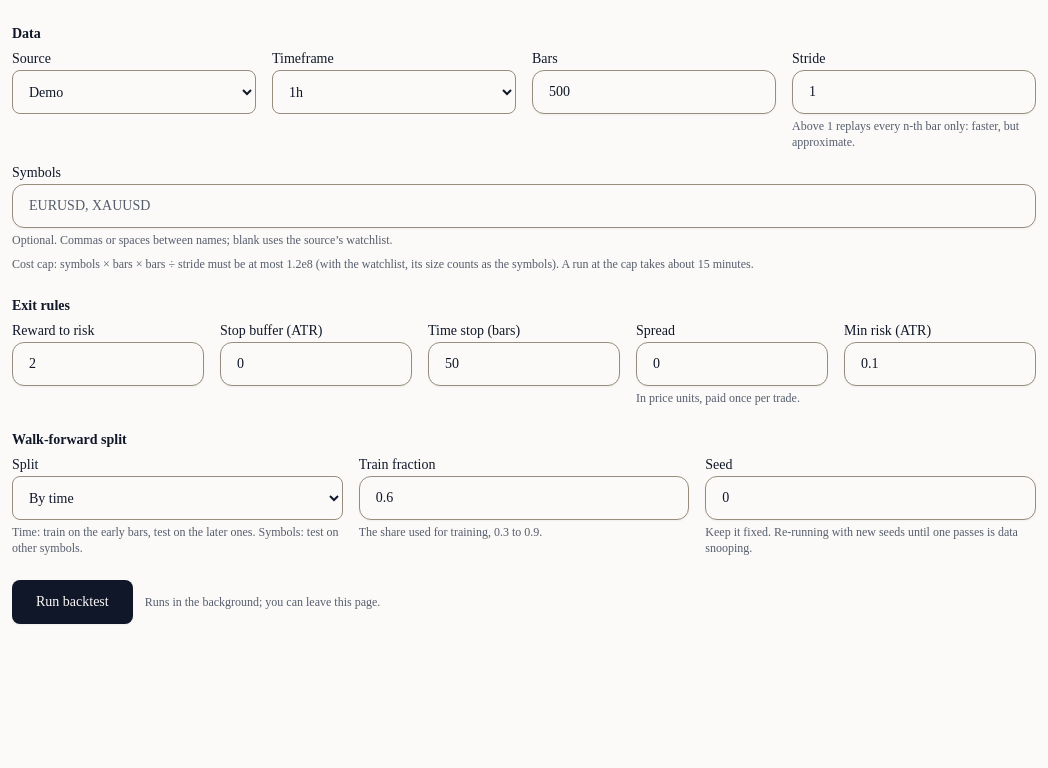
Scenario: BacktestRunForm › posts the strategy, shows a 409 in the alert region and re-reads the page
What coordinates should you click on to do the following:
click the button "Run backtest"
I would click on:
 (72, 602)
Its box is [12,580,133,624].
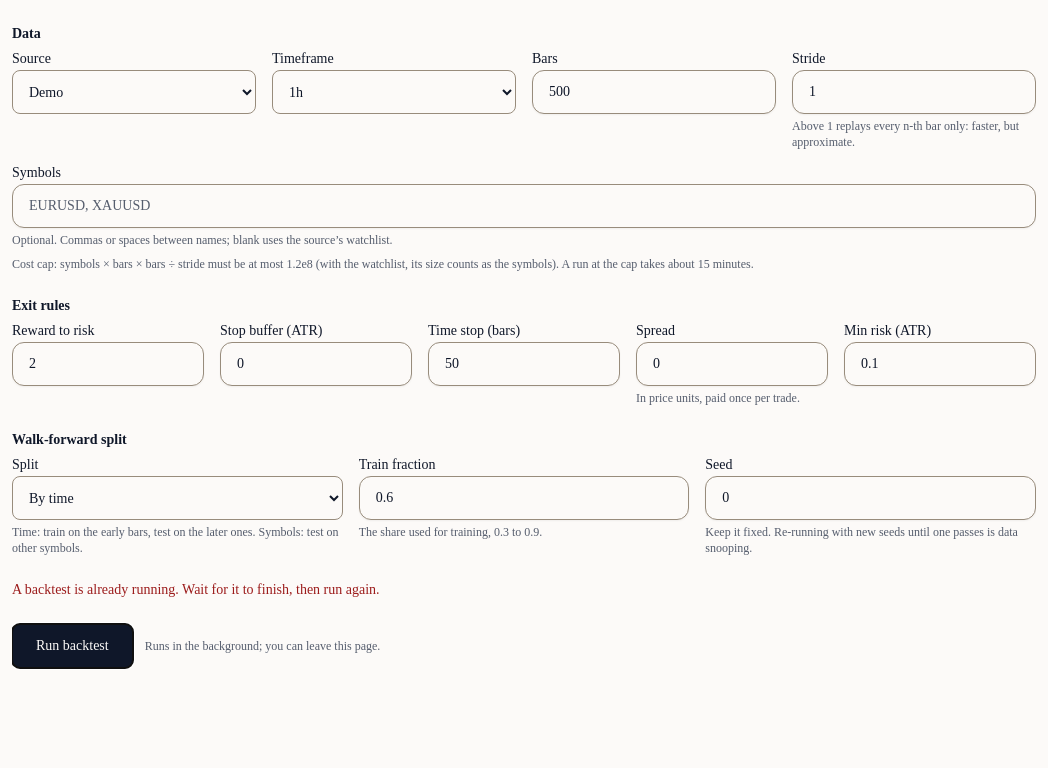
Expected: the message reads "A backtest is already running. Wait for it to finish, then run again.", [12,582,380,597]
